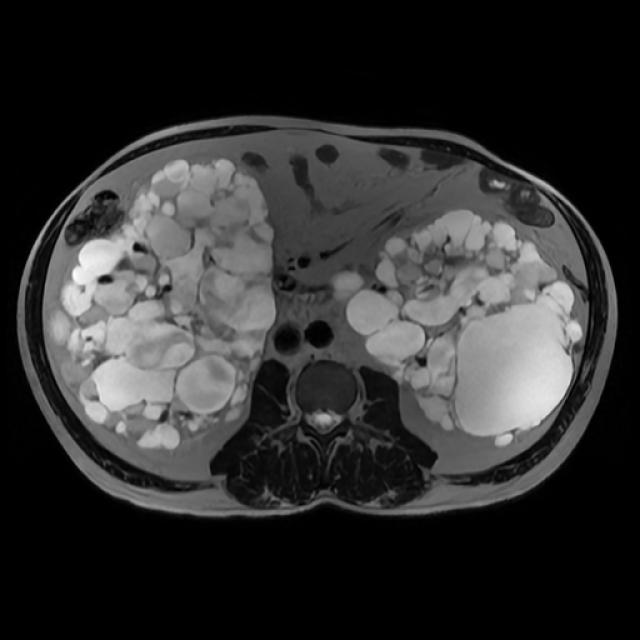sag: (50, 159, 275, 450)
sol: (333, 208, 584, 447)
